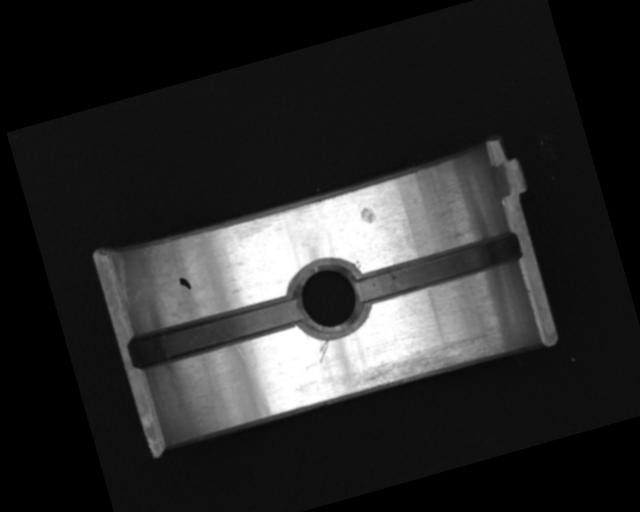blot: (176, 274, 192, 292)
bruise: (357, 204, 378, 226)
gap: (124, 289, 307, 373), (353, 228, 525, 306)
hole: (286, 252, 375, 346)
nick: (314, 337, 335, 364)
scratch: (347, 326, 503, 398)
